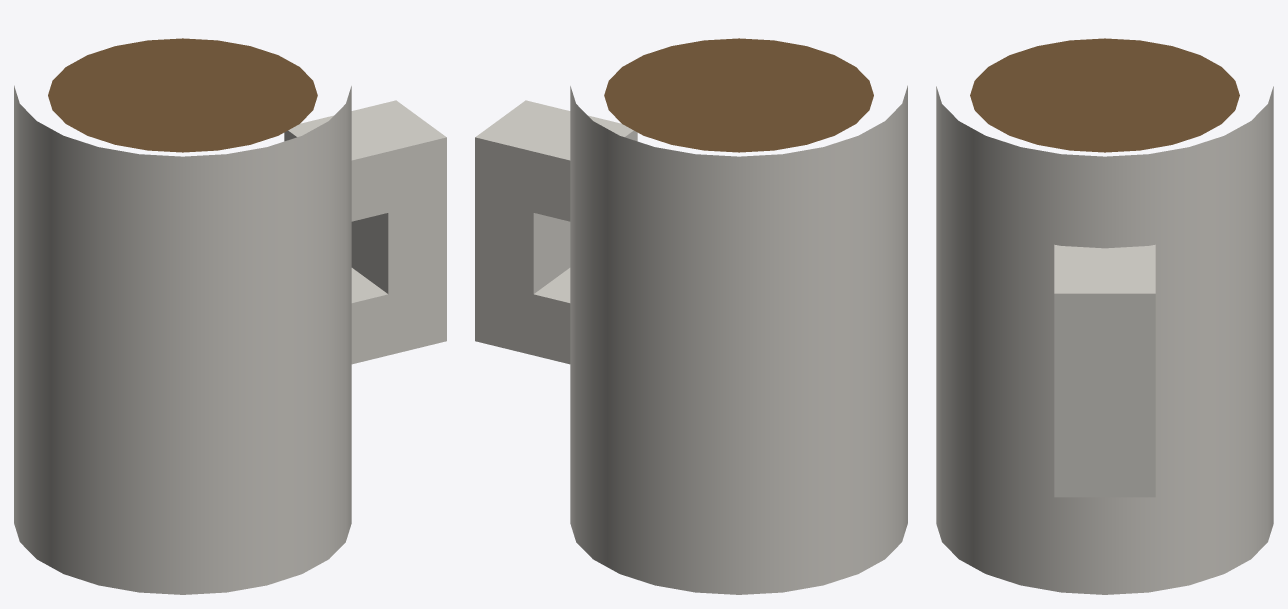
Rendered from office-coffee-cup.glb.
The picture shows the model from 3 angles, left to right: view 1: azimuth 30°, elevation 25°; view 2: azimuth 150°, elevation 25°; view 3: azimuth 270°, elevation 25°; orthographic projection.
Visible parts, largest first — view 1: AethelCoffeeCup; view 2: AethelCoffeeCup; view 3: AethelCoffeeCup.
Boxes of the visible parts, bbox=[...] form: AethelCoffeeCup: bbox=[14, 38, 446, 594]; AethelCoffeeCup: bbox=[475, 38, 907, 594]; AethelCoffeeCup: bbox=[936, 38, 1273, 594].
Bounding box in the file's own units: 0.079 × 0.086 × 0.06.
